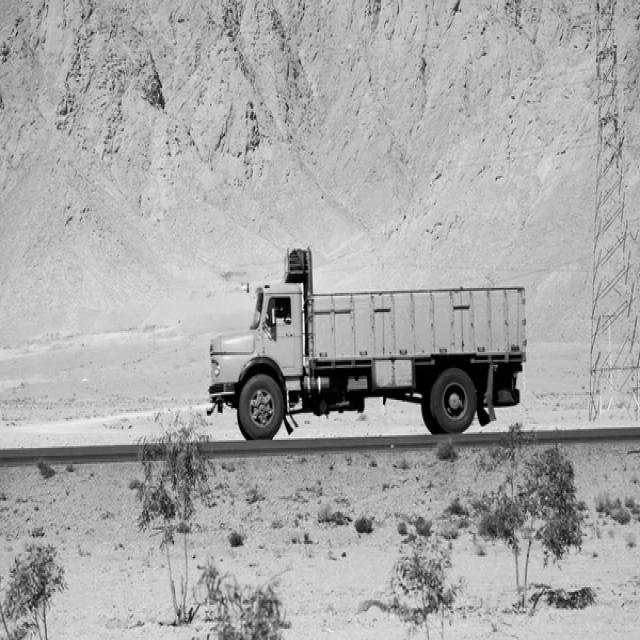Truck: (210, 250, 527, 440)
